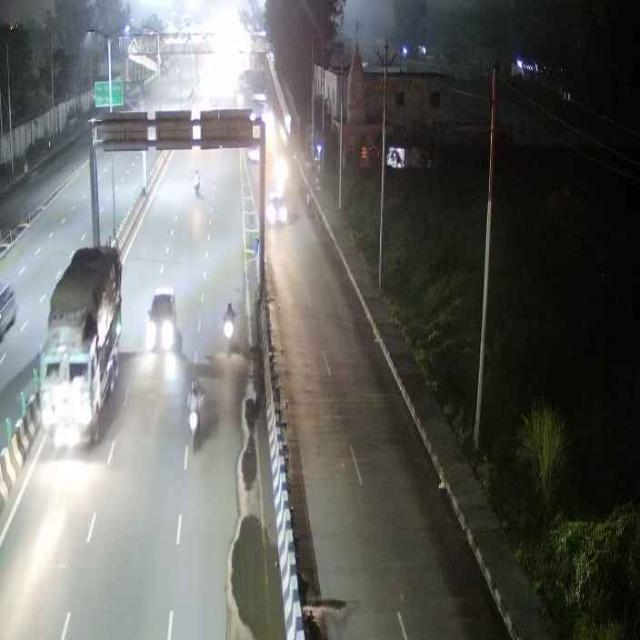car: (143, 283, 180, 356)
